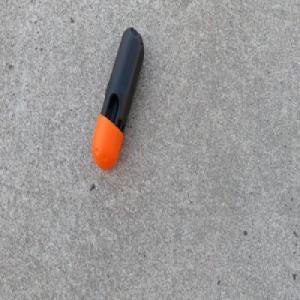PlasticPart: (90, 24, 145, 172)
